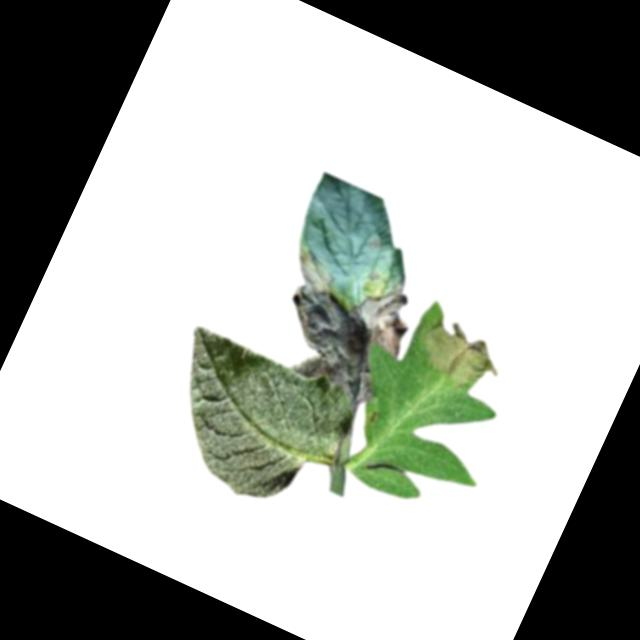Late_blight: (251, 234, 425, 408), (408, 309, 514, 403)
